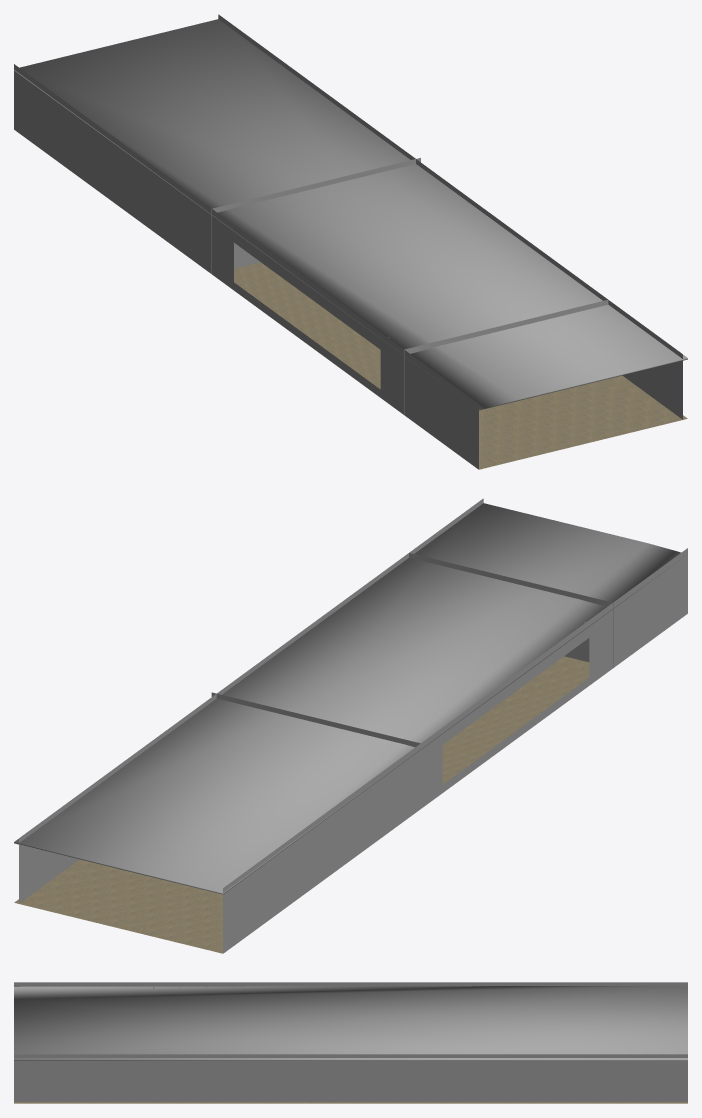
The model's file is Classroom.obj.
3 renders of one model, top to bottom at view 1: azimuth 30°, elevation 25°; view 2: azimuth 150°, elevation 25°; view 3: azimuth 270°, elevation 25°, orthographic. The views are drawn at different scales.
Visible parts, largest first — view 1: Drop_Ceiling, Floor, East_Wall_2, East_Wall_1, Hall_West_Wall, East_Wall_3, South_Wall, East_Wall_4, North_Wall; view 2: Drop_Ceiling, Floor, East_Wall_2, East_Wall_1, Hall_West_Wall, East_Wall_3, North_Wall, East_Wall_4, South_Wall; view 3: Drop_Ceiling, Hall_West_Wall, East_Wall_2, Floor, East_Wall_3, East_Wall_1.
Boxes of the visible parts, x1,y1,x2,y2 form: Drop_Ceiling: [14, 19, 687, 410]; Floor: [19, 133, 687, 469]; East_Wall_2: [14, 64, 233, 289]; East_Wall_1: [380, 332, 478, 469]; Hall_West_Wall: [218, 14, 682, 419]; East_Wall_3: [234, 225, 380, 349]; South_Wall: [211, 158, 420, 273]; East_Wall_4: [234, 282, 380, 397]; North_Wall: [404, 300, 608, 414]; Drop_Ceiling: [14, 503, 684, 894]; Floor: [14, 617, 682, 953]; East_Wall_2: [223, 727, 442, 953]; East_Wall_1: [589, 548, 687, 685]; Hall_West_Wall: [19, 498, 483, 903]; East_Wall_3: [442, 620, 589, 744]; North_Wall: [409, 553, 613, 667]; East_Wall_4: [442, 678, 589, 792]; South_Wall: [211, 692, 420, 747]; Drop_Ceiling: [14, 986, 687, 1060]; Hall_West_Wall: [14, 1054, 687, 1101]; East_Wall_2: [369, 982, 687, 986]; Floor: [14, 1102, 687, 1103]; East_Wall_3: [156, 982, 369, 986]; East_Wall_1: [14, 982, 156, 986].
Size of the model in its own units: 320 by 95.75 by 1229.
Materials: 5 (1 with a texture image).
